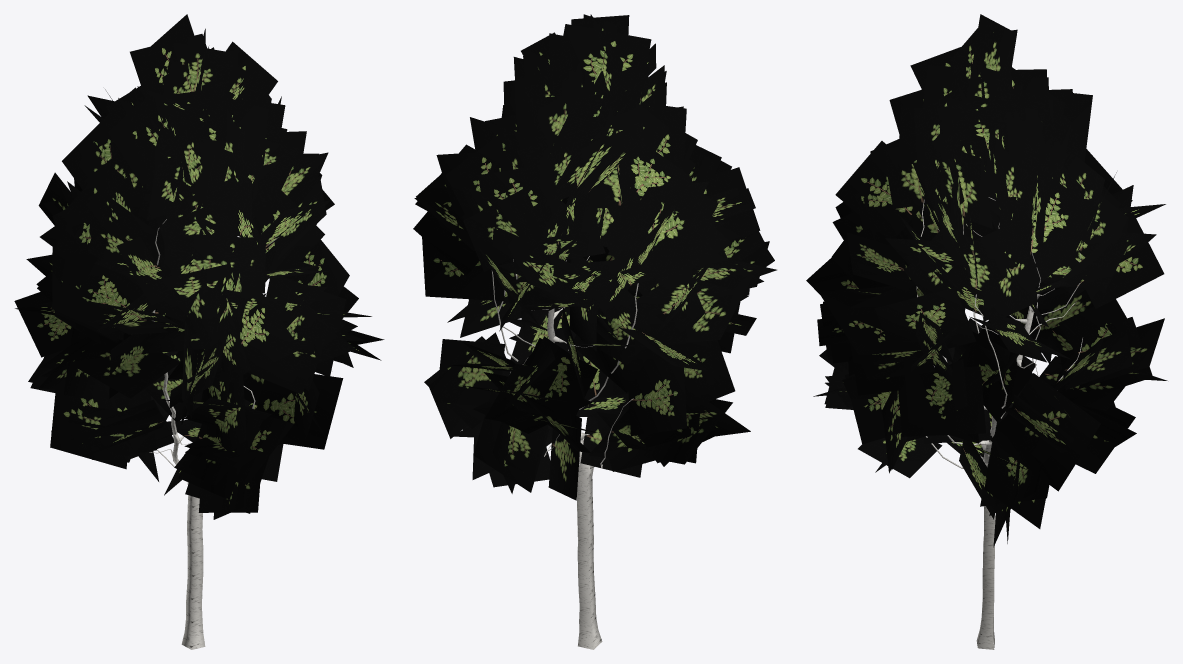
File: Forest_Birch_Reduced.fbx
The picture shows the model from 3 angles, left to right: view 1: azimuth 30°, elevation 25°; view 2: azimuth 150°, elevation 25°; view 3: azimuth 270°, elevation 25°; orthographic projection. The views are drawn at different scales.
Visible parts, largest first — view 1: Forest_Birch_Reduced; view 2: Forest_Birch_Reduced; view 3: Forest_Birch_Reduced.
Boxes of the visible parts, x1,y1,x2,y2 form: Forest_Birch_Reduced: [14, 14, 384, 649]; Forest_Birch_Reduced: [413, 14, 776, 649]; Forest_Birch_Reduced: [806, 14, 1167, 649].
Size of the model in its own units: 902 by 1694 by 903.
